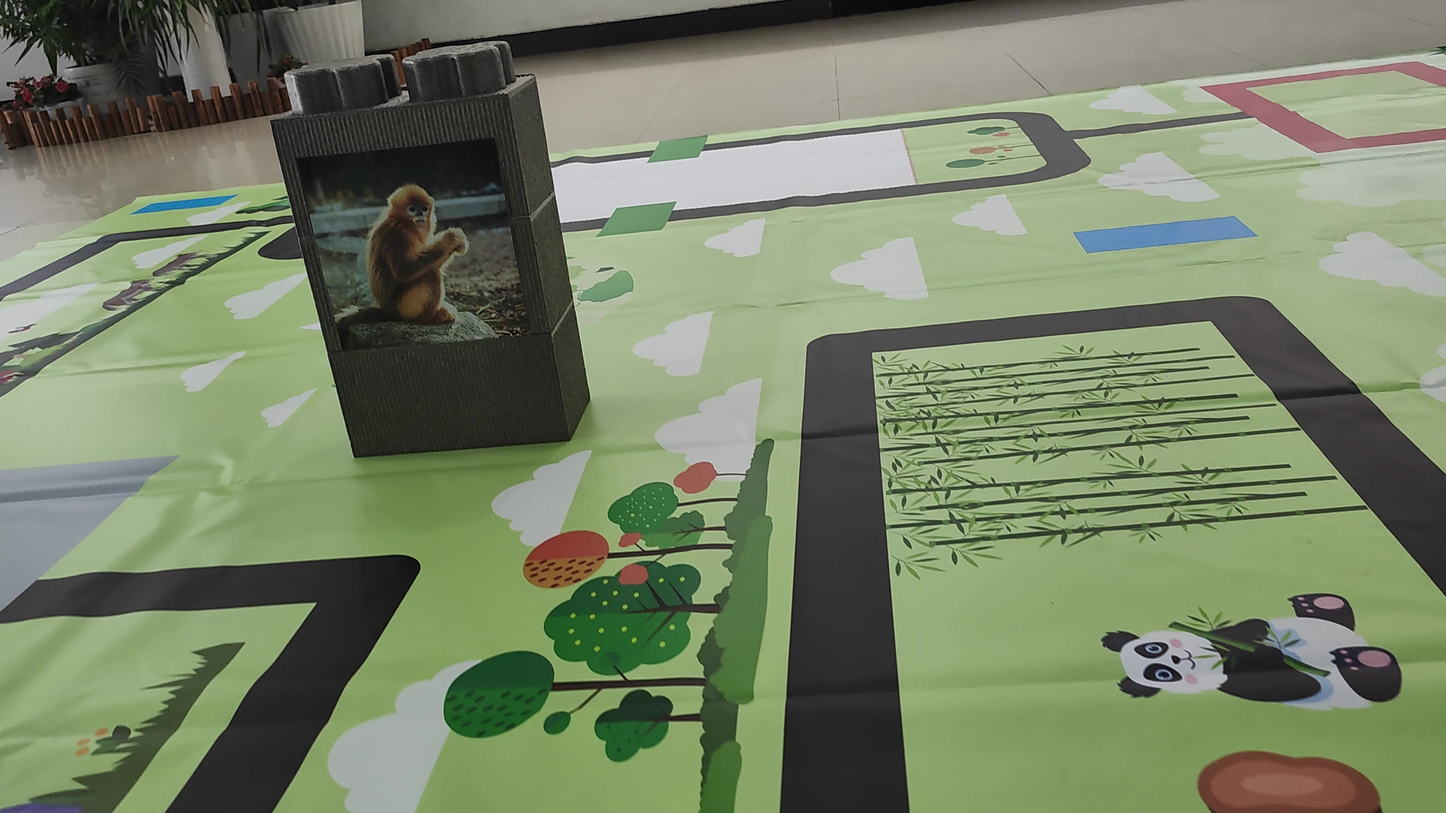monkey: (328, 158, 493, 338)
